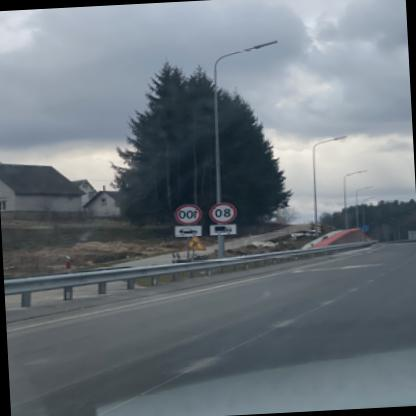speedlimit: (210, 200, 240, 223), (177, 202, 206, 223)
